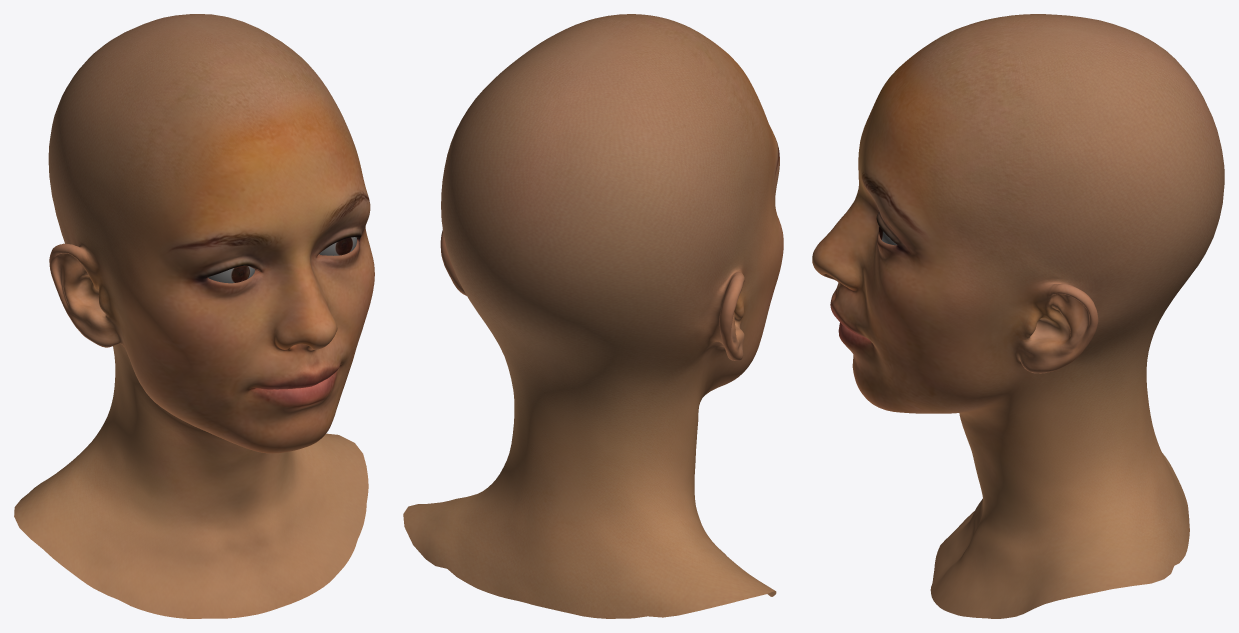
3 views of the same model, side by side, from view 1: azimuth 30°, elevation 25°; view 2: azimuth 150°, elevation 25°; view 3: azimuth 270°, elevation 25° (orthographic). The views are drawn at different scales.
Visible parts, largest first — view 1: Registered head, right eye; view 2: Registered head; view 3: Registered head.
Boxes of the visible parts, left/top/right/bottom form: Registered head: left=14, top=14, right=374, bottom=618; right eye: left=208, top=266, right=254, bottom=283; Registered head: left=403, top=14, right=783, bottom=618; Registered head: left=812, top=14, right=1224, bottom=618.
Bounding box in the file's own units: 1.21 × 1.86 × 1.25.
Materials: 3 (3 with a texture image).
